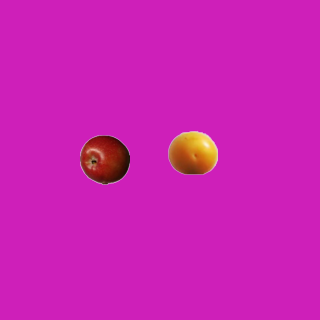Apple Braeburn: (79, 134, 129, 184)
Cherry Wax Yellow: (167, 127, 217, 177)
